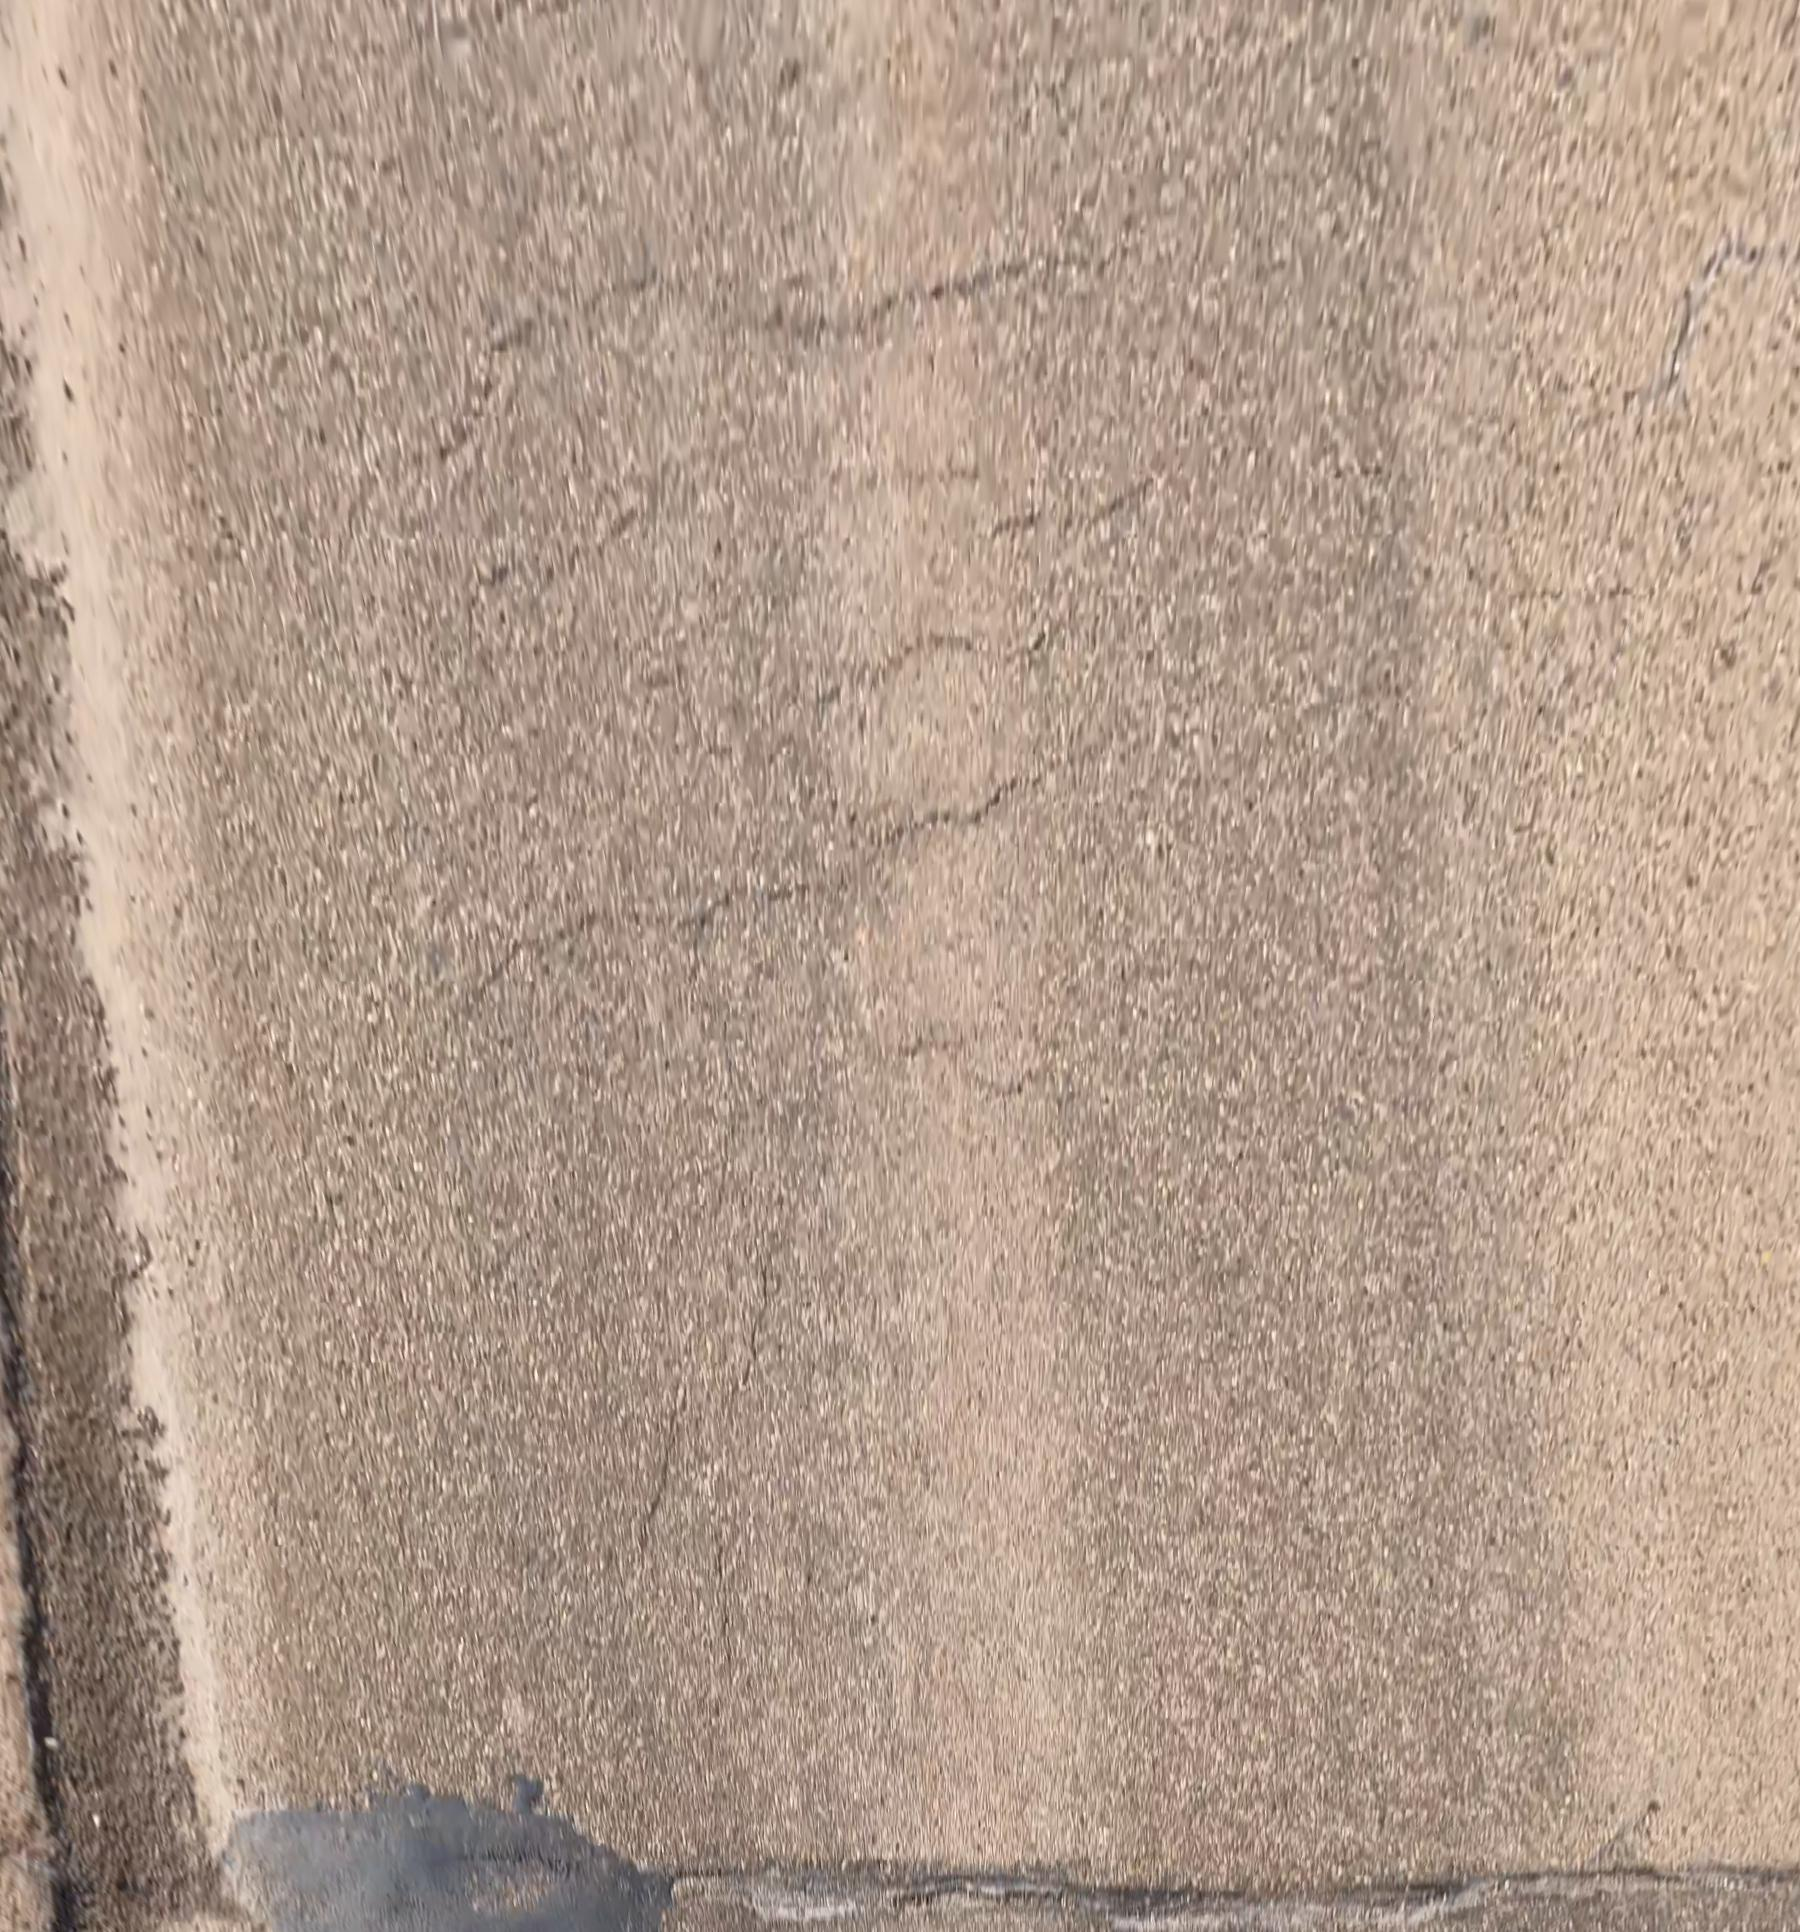pothole_patch_poor: (225, 1790, 668, 1932)
